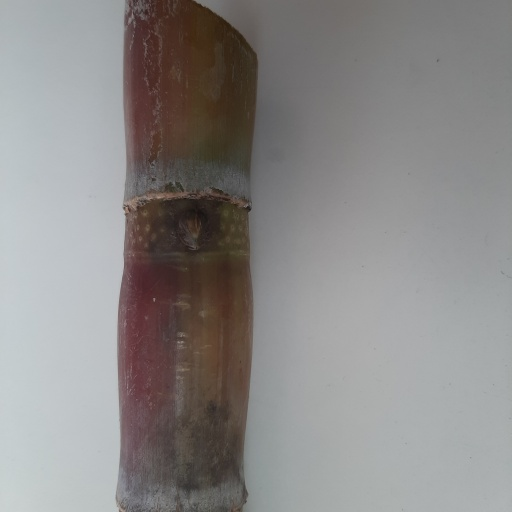Bud: (173, 206, 212, 252)
